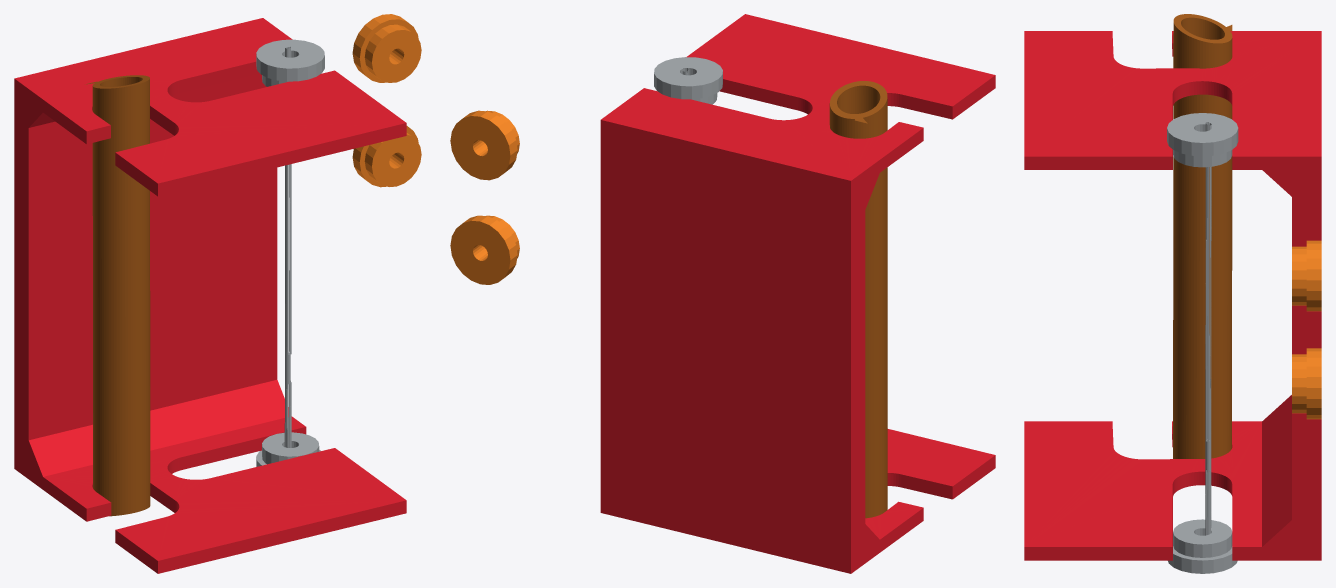
File: tinker.obj
3 views of the same model, side by side, from view 1: azimuth 30°, elevation 25°; view 2: azimuth 150°, elevation 25°; view 3: azimuth 270°, elevation 25° (orthographic). The views are drawn at different scales.
Parts seen in each view (by area): view 1: group_0_15277357, group_0_10967832, group_0_16089887, group_0_10988977; view 2: group_0_15277357, group_0_10967832, group_0_16089887, group_0_10988977; view 3: group_0_15277357, group_0_10967832, group_0_10988977, group_0_16089887.
Boxes of the visible parts, x1,y1,x2,y2 form: group_0_15277357: (14,18,406,573); group_0_10967832: (86,75,150,516); group_0_16089887: (352,14,421,187); group_0_10988977: (256,39,324,466); group_0_15277357: (600,14,995,573); group_0_10967832: (829,81,887,518); group_0_16089887: (450,110,519,284); group_0_10988977: (654,57,722,104); group_0_15277357: (1024,31,1321,560); group_0_10967832: (1173,14,1232,458); group_0_10988977: (1167,113,1238,573); group_0_16089887: (1292,240,1321,419).
Size of the model in its own units: 160 by 171 by 100.
